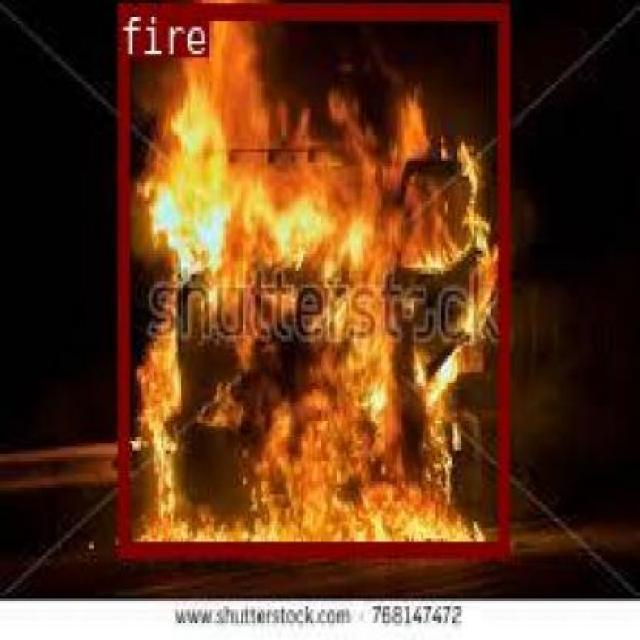Fire: (312, 278, 389, 553)
